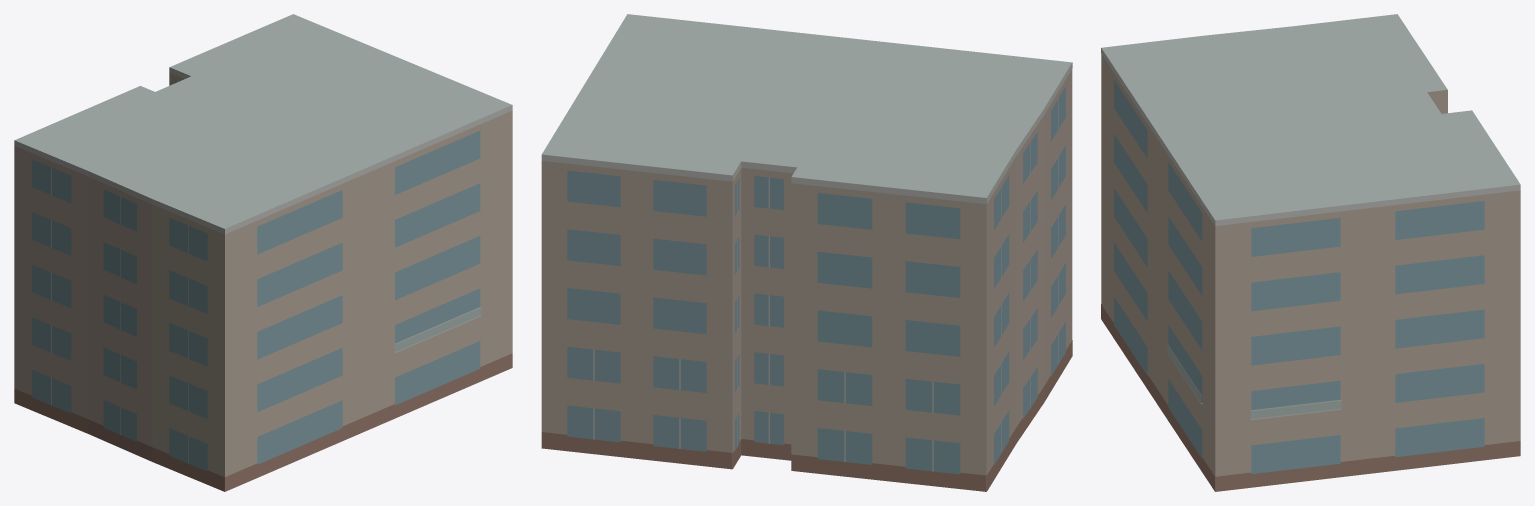
The model's file is survey-upis-32617696.glb.
3 views of the same model, side by side, from view 1: azimuth 30°, elevation 25°; view 2: azimuth 150°, elevation 25°; view 3: azimuth 270°, elevation 25° (orthographic). The views are drawn at different scales.
Parts seen in each view (by area): view 1: survey-upis-32617696.tmp; view 2: survey-upis-32617696.tmp; view 3: survey-upis-32617696.tmp.
Part boxes in pixels (x1,y1,x2,y2): survey-upis-32617696.tmp: [14, 14, 512, 491]; survey-upis-32617696.tmp: [541, 14, 1072, 491]; survey-upis-32617696.tmp: [1101, 14, 1520, 491].
Bounding box in the file's own units: 18.93 × 11.6 × 16.26.
